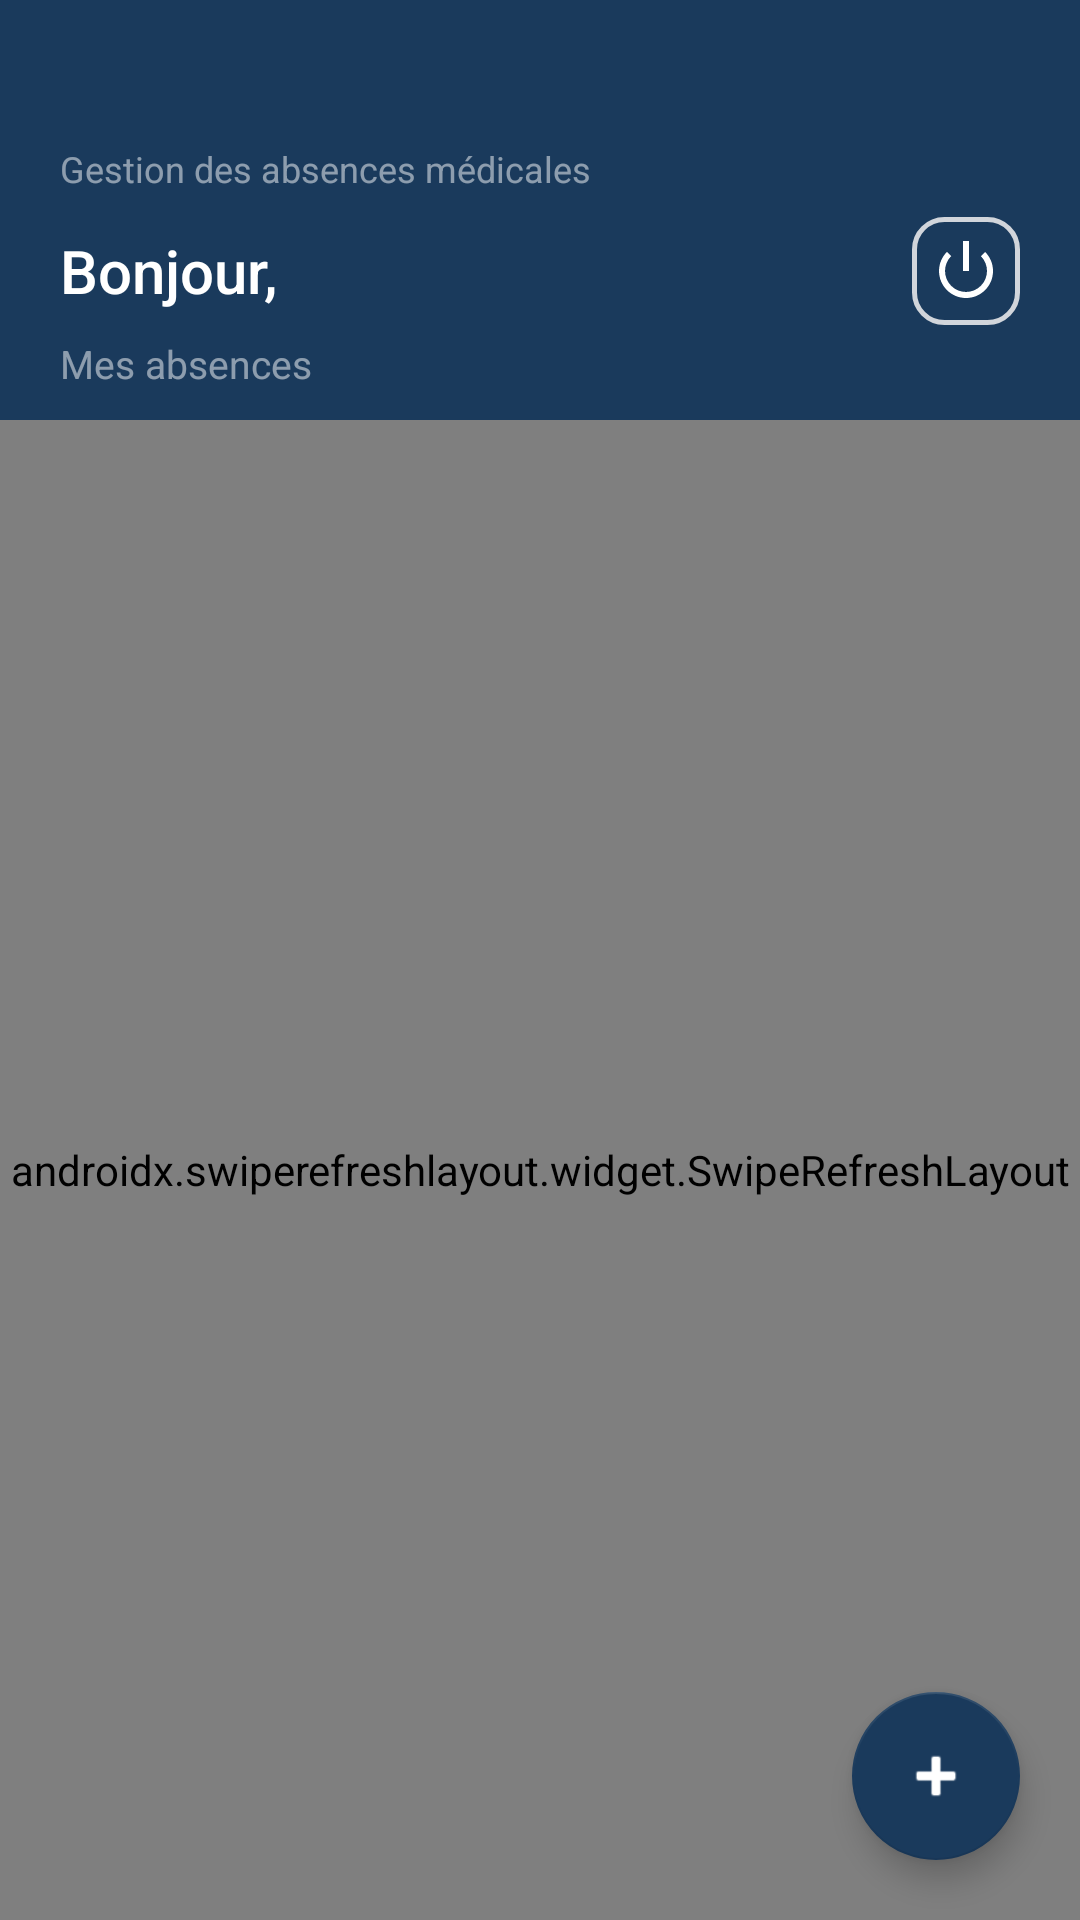

Where to tap for icons on this 1080×1920 app screen, as [x,y]:
Déconnexion: [966,271]
Nouvelle absence: [936,1776]
